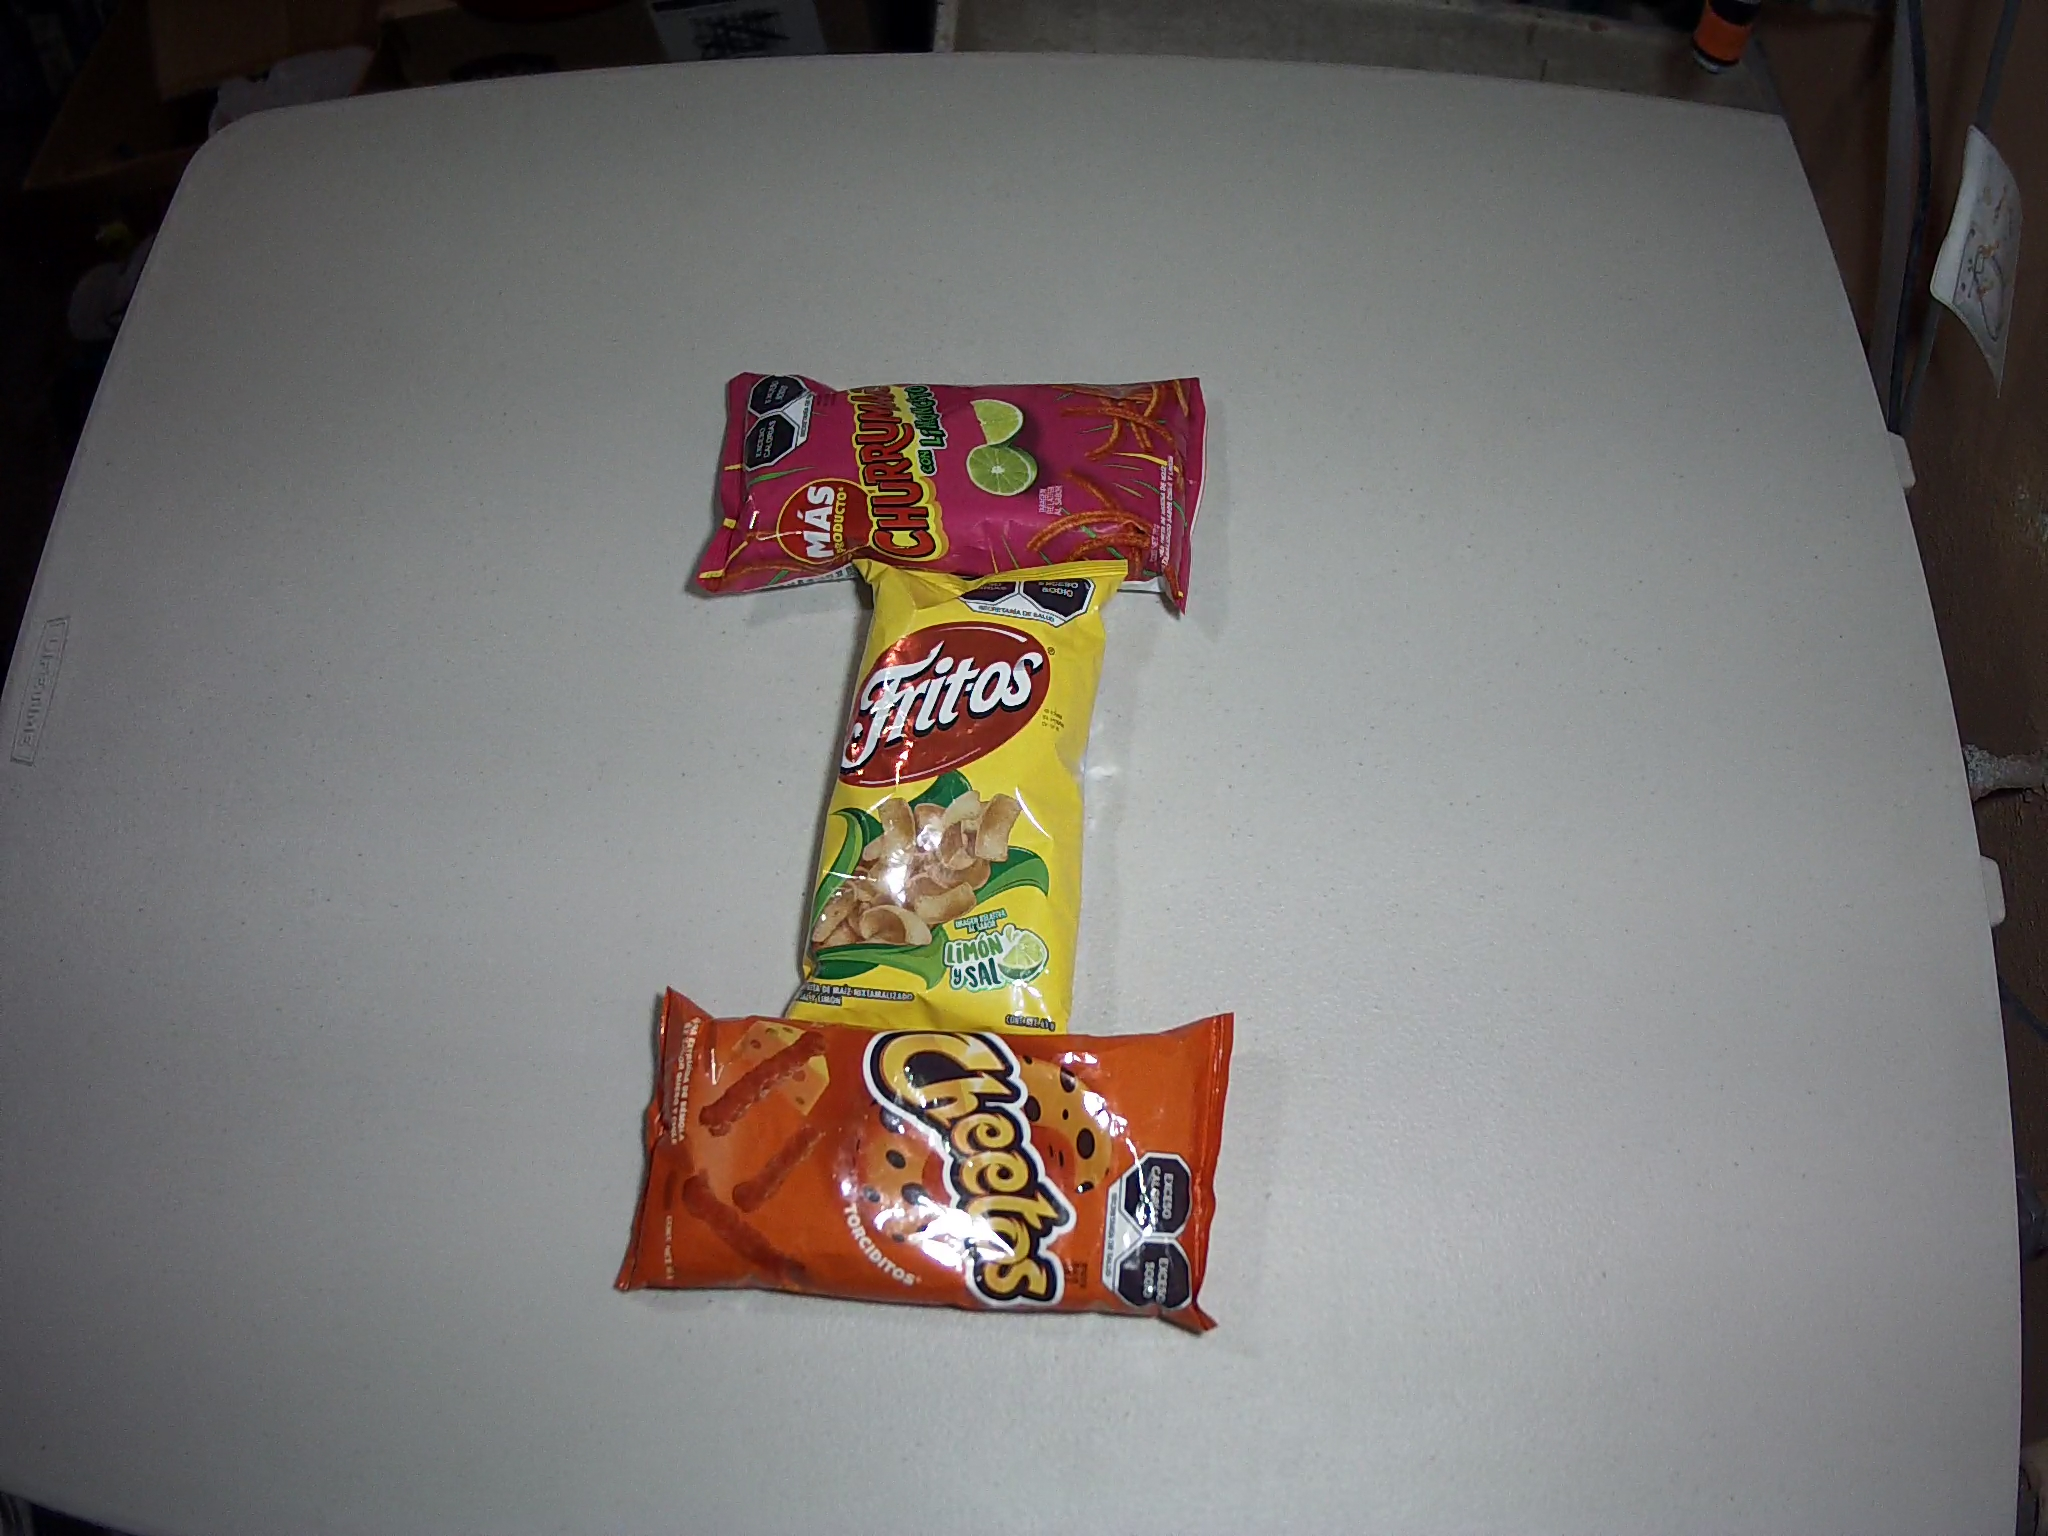CheetosTorciditos_55_F: (614, 984, 1237, 1334)
Churrumais_70_F: (692, 371, 1208, 620)
FritosSalLimon_65_F: (784, 557, 1130, 1047)
